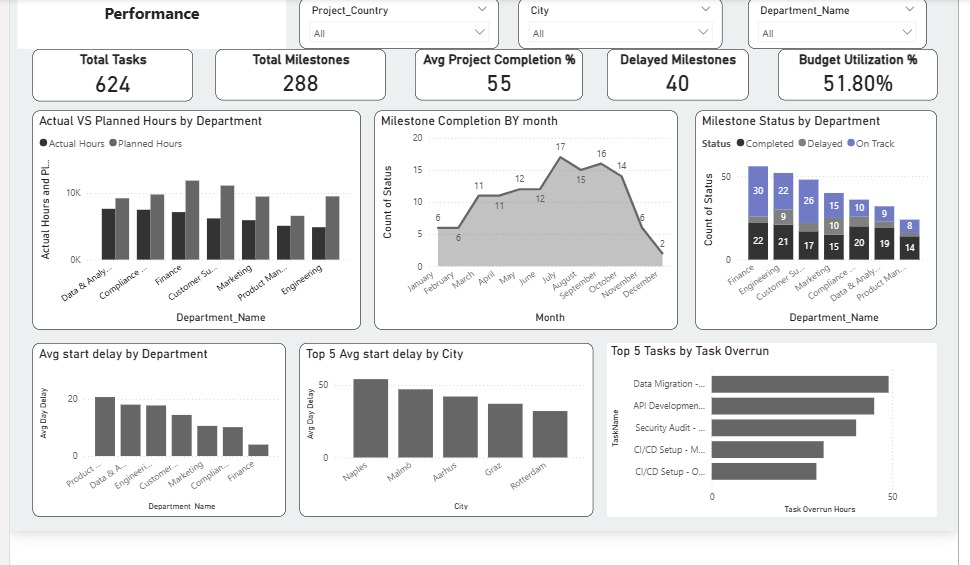

The page's visual inventory and layout, read from the dashboard file:
{"tool":"powerbi","page":{"name":"Performance","canvas":[1280,720],"ordinal":2},"visuals":[{"type":"textbox","box":[10.1,0,362.5,68.9],"z":0},{"type":"slicer","fields":{"Values":["Projects.Project_Country"]},"box":[390.9,0,269.4,68.9],"z":1000},{"type":"slicer","fields":{"Values":["Projects.City"]},"box":[686.6,0,275.4,68.9],"z":2000},{"type":"slicer","fields":{"Values":["Departments.Department_Name"]},"box":[996.5,0,241,68.9],"z":3000},{"type":"card","title":"Total Tasks","fields":{"Values":["measure.Total Tasks"]},"box":[30.4,68.9,216.7,70.9],"z":4000},{"type":"card","title":"Budget Utilization %","fields":{"Values":["measure.Budget Utilization%"]},"box":[1036.3,69.6,215.4,69.6],"z":5000},{"type":"card","title":"Delayed Milestones","fields":{"Values":["measure.Milestones Delayed"]},"box":[806.4,69.6,191.1,69.6],"z":6000},{"type":"card","title":"Avg Project Completion %","fields":{"Values":["measure.Average_Completion_%"]},"box":[547.3,69.6,226.7,69.6],"z":7000},{"type":"card","title":"Total Milestones","fields":{"Values":["measure.Total Milestones"]},"box":[276.9,69.6,229.9,69.6],"z":8000},{"type":"columnChart","title":"Milestone Status by Department","fields":{"Category":["Departments.Department_Name"],"Series":["Milestones.Status"],"Y":["CountNonNull(Milestones.Status)"]},"box":[925.6,151.9,326.1,295.7],"z":9000},{"type":"barChart","title":"Top 5 Tasks by Task Overrun","fields":{"Category":["Tasks.TaskName"],"Y":["measure.Task Overrun Hours"]},"box":[806.1,465.8,445.6,234.9],"z":10000},{"type":"clusteredColumnChart","title":"Actual VS Planned Hours by Department","fields":{"Y":["measure.Actual Hours","measure.Planned Hours"],"Category":["Departments.Department_Name"]},"box":[30.4,151.9,443.5,295.7],"z":11000},{"type":"areaChart","title":"Milestone Completion BY month","fields":{"Category":["Milestones.ActualCompletionDate.Variation.Date Hierarchy.Month"],"Y":["CountNonNull(Milestones.Status)"]},"box":[492.2,151.9,409.1,295.7],"z":12000},{"type":"columnChart","title":"Avg start delay by Department","fields":{"Y":["measure.Avg Day Delay"],"Category":["Departments.Department_Name"]},"box":[30.4,465.8,342.3,234.9],"z":13000},{"type":"columnChart","title":"Top 5 Avg start delay by City","fields":{"Y":["measure.Avg Day Delay"],"Category":["Projects.City"]},"box":[390.9,465.8,397,234.9],"z":14000}]}

Visuals, with their boxes on the page's 1280x720 design canvas (x1, y1, x2, y2). These are canvas units, not pixel positions in the 970x565 screenshot, which may show the page scaled, cropped or inside an application window:
textbox: {"left": 10, "top": 0, "right": 373, "bottom": 69}
slicer - Projects.Project_Country: {"left": 391, "top": 0, "right": 660, "bottom": 69}
slicer - Projects.City: {"left": 687, "top": 0, "right": 962, "bottom": 69}
slicer - Departments.Department_Name: {"left": 996, "top": 0, "right": 1238, "bottom": 69}
"Total Tasks" card: {"left": 30, "top": 69, "right": 247, "bottom": 140}
"Budget Utilization %" card: {"left": 1036, "top": 70, "right": 1252, "bottom": 139}
"Delayed Milestones" card: {"left": 806, "top": 70, "right": 998, "bottom": 139}
"Avg Project Completion %" card: {"left": 547, "top": 70, "right": 774, "bottom": 139}
"Total Milestones" card: {"left": 277, "top": 70, "right": 507, "bottom": 139}
"Milestone Status by Department" columnChart: {"left": 926, "top": 152, "right": 1252, "bottom": 448}
"Top 5 Tasks by Task Overrun" barChart: {"left": 806, "top": 466, "right": 1252, "bottom": 701}
"Actual VS Planned Hours by Department" clusteredColumnChart: {"left": 30, "top": 152, "right": 474, "bottom": 448}
"Milestone Completion BY month" areaChart: {"left": 492, "top": 152, "right": 901, "bottom": 448}
"Avg start delay by Department" columnChart: {"left": 30, "top": 466, "right": 373, "bottom": 701}
"Top 5 Avg start delay by City" columnChart: {"left": 391, "top": 466, "right": 788, "bottom": 701}
